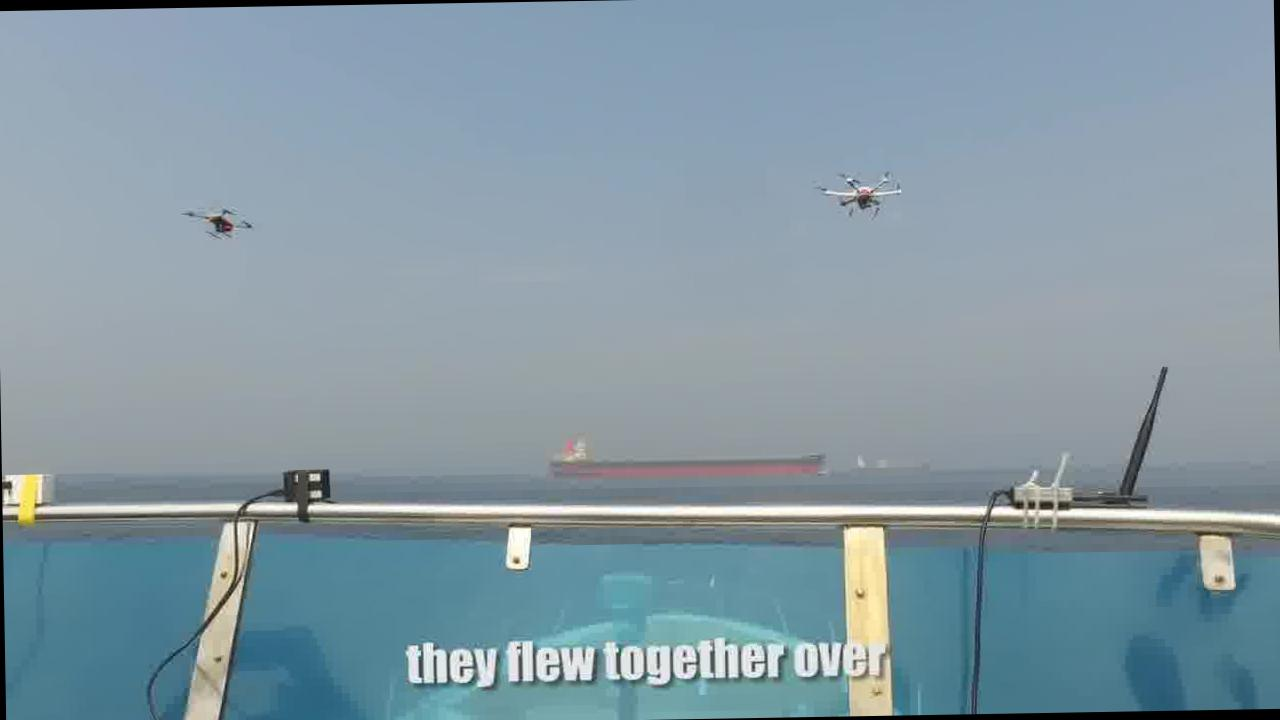drone: (816, 164, 904, 222), (182, 201, 260, 239)
